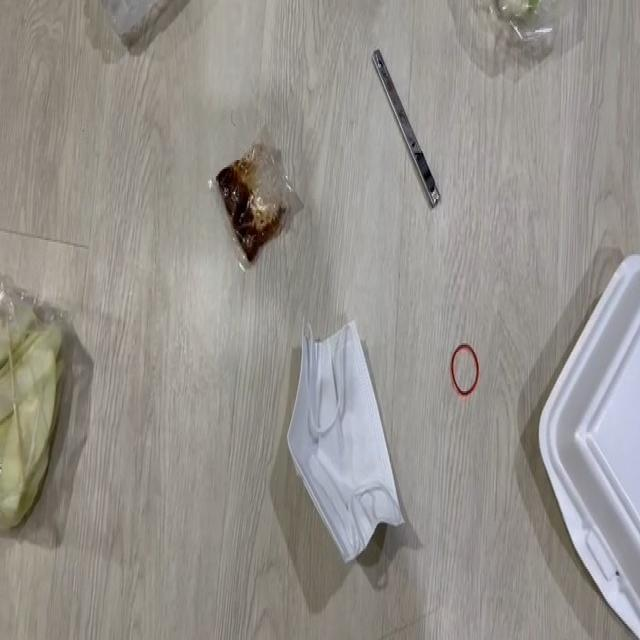Anorganik: (529, 218, 640, 630), (361, 45, 460, 208), (94, 0, 195, 69), (445, 338, 485, 398)
B3: (284, 310, 409, 568), (206, 118, 308, 282), (0, 290, 64, 540)
